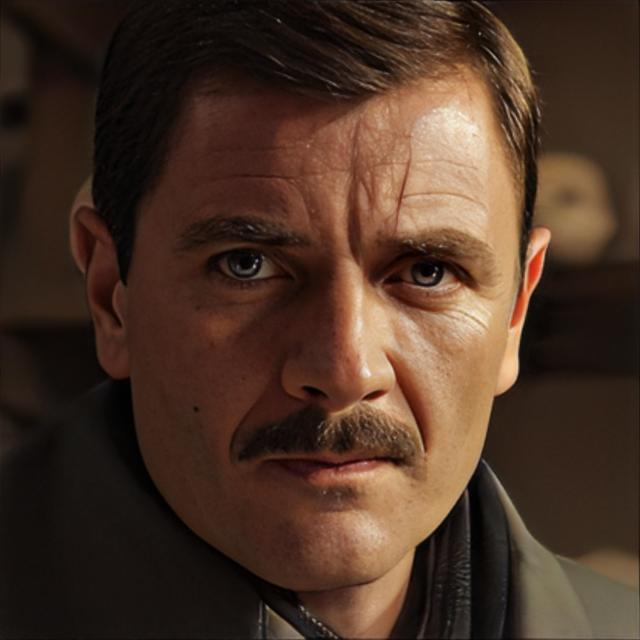anger: (121, 55, 515, 588)
